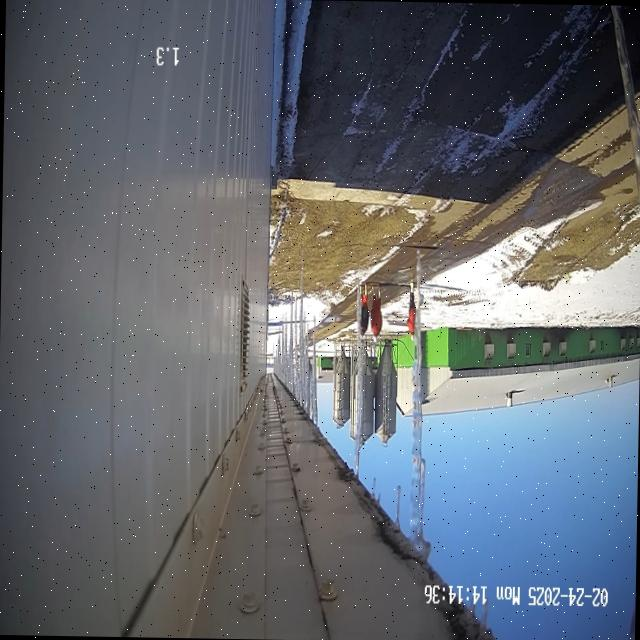Red uniform: (370, 285, 382, 341), (359, 283, 369, 336), (407, 282, 416, 337)
